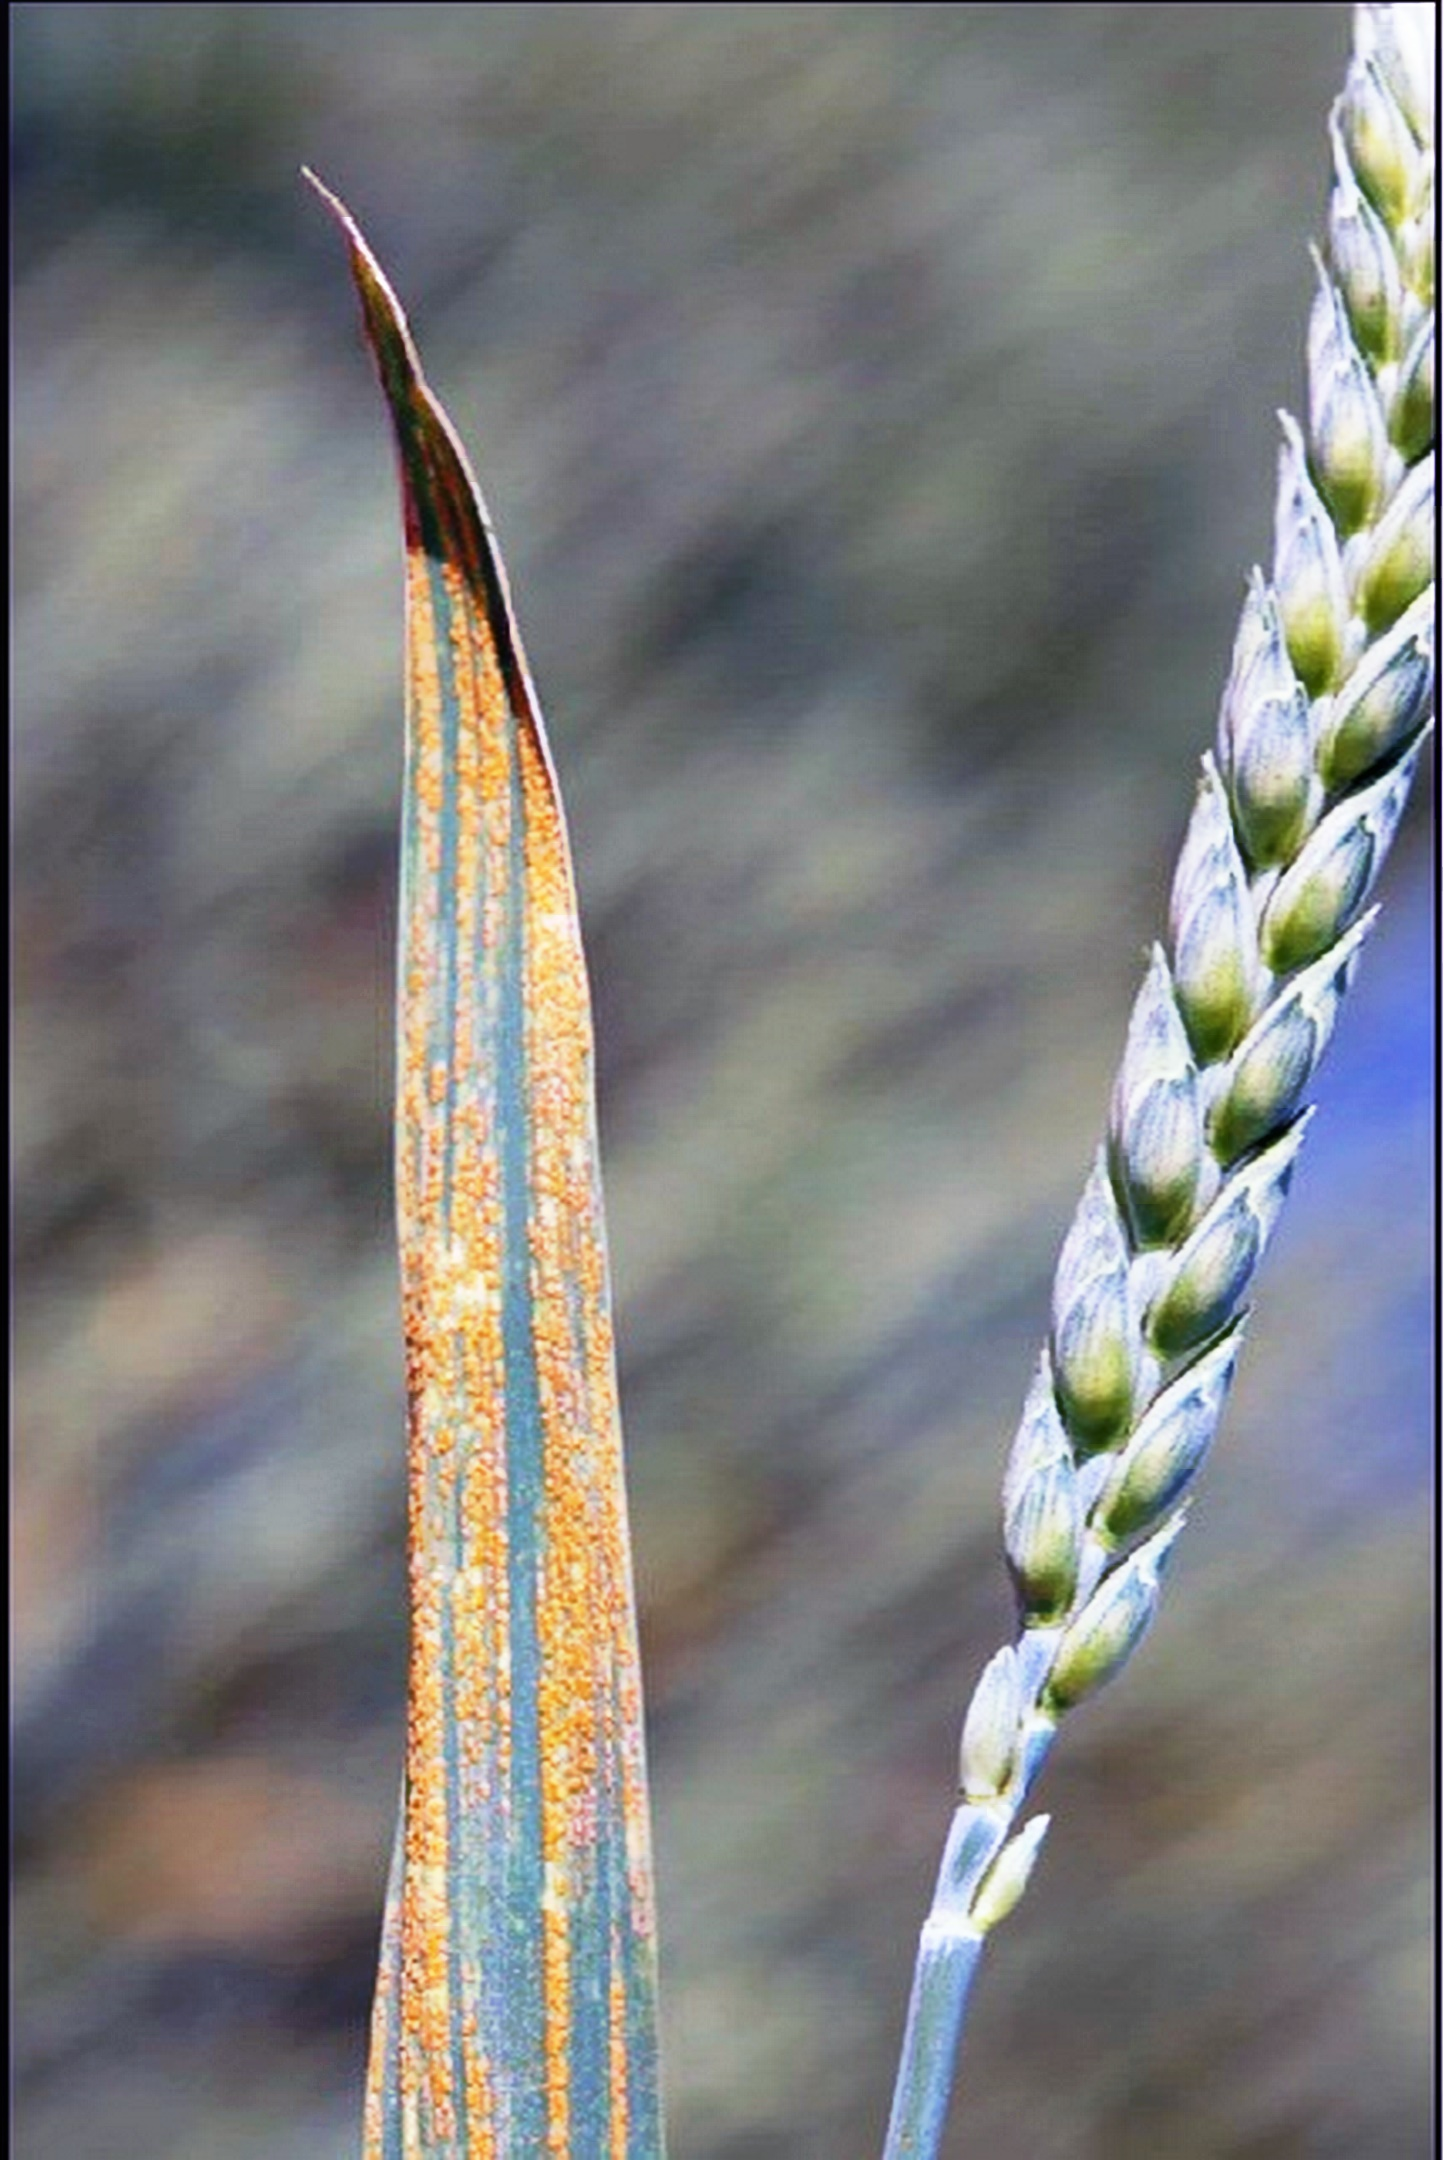Leaf Rust: (351, 480, 707, 2104)
